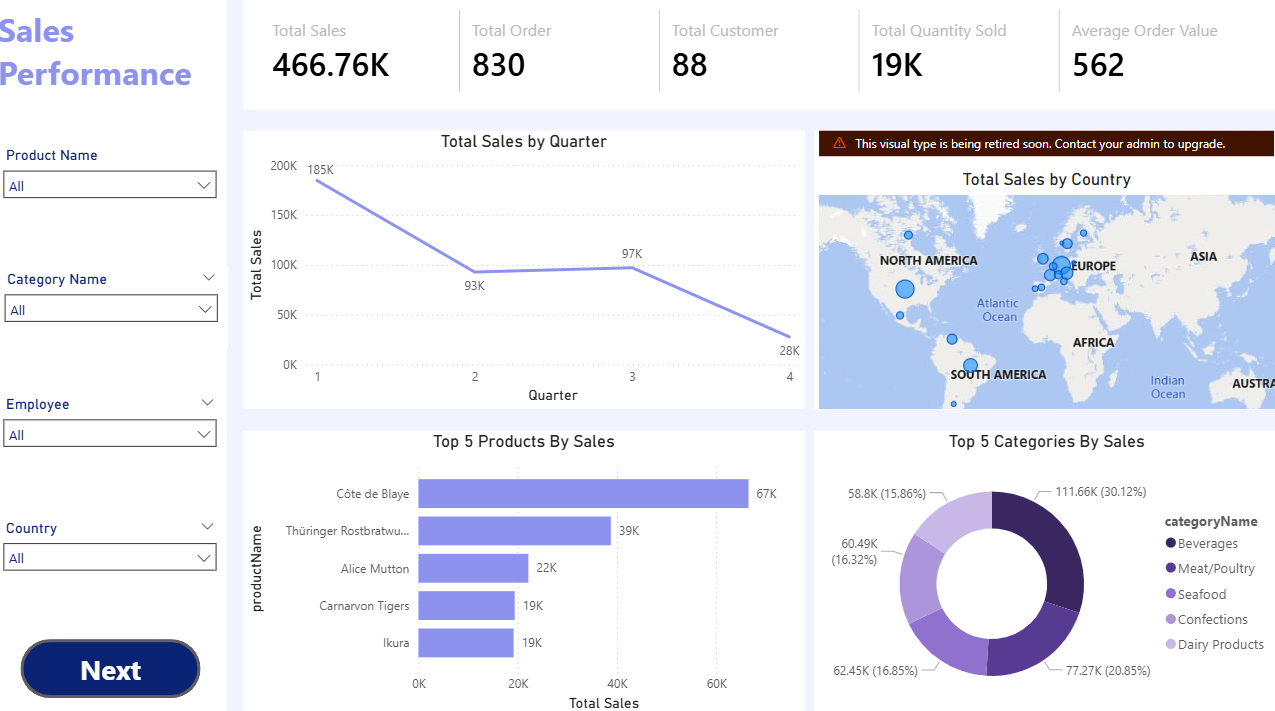

Layout of this report page (visuals, bound fields, positions):
{"tool":"powerbi","page":{"name":"Page 1","canvas":[1280,720],"ordinal":0},"visuals":[{"type":"cardVisual","fields":{"Data":["Dax Sales.Total Sales","Dax Sales.Total_Order","Dax Sales.Total Customer","Dax Sales.Toatal Quantity Sold","Dax Sales.Average_Order_Value"]},"box":[248.8,0,1031.2,115.7],"z":0},{"type":"shape","box":[0,0,232.6,720.3],"z":1000},{"type":"textbox","box":[0,10,232.6,95.8],"z":2000},{"type":"slicer","fields":{"Values":["Dim Categories.categoryName"]},"box":[1.2,271.4,232.6,82.1],"z":3000},{"type":"slicer","fields":{"Values":["Dim Products.productName"]},"box":[0,147.5,232.6,82.1],"z":4000},{"type":"slicer","fields":{"Values":["Dim Customers.country"]},"box":[0,519.2,232.6,82.1],"z":5000},{"type":"slicer","fields":{"Values":["Dim Employees.Full Name"]},"box":[0,395.3,232.6,82.1],"z":6000},{"type":"actionButton","title":"vvf","box":[27.4,643.1,179.1,58.5],"z":7000},{"type":"clusteredBarChart","title":"Top 5 Products By Sales","fields":{"Y":["Dax Sales.Total Sales"],"Category":["Dim Products.productName"]},"box":[248.7,435.9,559,284.6],"z":8000},{"type":"donutChart","title":"Top 5 Categories By Sales","fields":{"Y":["Dax Sales.Total Sales"],"Category":["Dim Categories.categoryName"]},"box":[816.7,435.9,462.8,284.6],"z":9000},{"type":"map","title":"Total Sales by Country","fields":{"Category":["Dim Customers.country"],"Size":["Dax Sales.Total Sales"]},"box":[816.7,137.2,462.8,276.9],"z":10000},{"type":"lineChart","fields":{"Y":["Dax Sales.Total Sales"],"Category":["DIm Order Date.orderDate Hierarchy.Year","DIm Order Date.orderDate Hierarchy.Quarter","DIm Order Date.orderDate Hierarchy.Month","DIm Order Date.orderDate Hierarchy.Day"]},"box":[248.7,137.2,559,276.9],"z":11000}]}

Visuals, with their boxes in screenshot pixels (x1, y1, x2, y2), scaled from the page's 1280x720 canvas onto the 1275x711 screenshot:
cardVisual - Dax Sales.Total Sales x Dax Sales.Total_Order: box(248, 0, 1274, 114)
shape: box(0, 0, 232, 710)
textbox: box(0, 10, 232, 104)
slicer - Dim Categories.categoryName: box(1, 268, 233, 349)
slicer - Dim Products.productName: box(0, 146, 232, 227)
slicer - Dim Customers.country: box(0, 513, 232, 594)
slicer - Dim Employees.Full Name: box(0, 390, 232, 471)
"vvf" actionButton: box(27, 635, 206, 693)
"Top 5 Products By Sales" clusteredBarChart: box(248, 430, 805, 710)
"Top 5 Categories By Sales" donutChart: box(814, 430, 1274, 710)
"Total Sales by Country" map: box(814, 135, 1274, 409)
lineChart - Dax Sales.Total Sales x DIm Order Date.orderDate Hierarchy.Year: box(248, 135, 805, 409)
